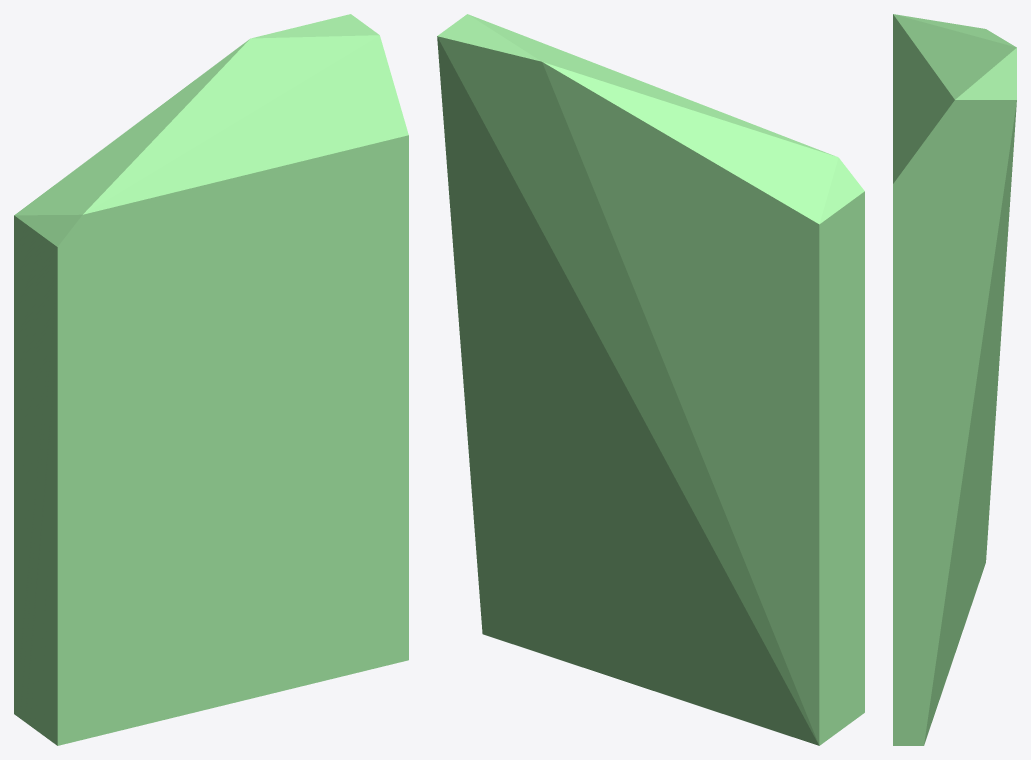
File: rambler_robot_base_coll_66.dae
The picture shows the model from 3 angles, left to right: view 1: azimuth 30°, elevation 25°; view 2: azimuth 150°, elevation 25°; view 3: azimuth 270°, elevation 25°; orthographic projection. The views are drawn at different scales.
Parts seen in each view (by area): view 1: Node_0x7fe100285c80; view 2: Node_0x7fe100285c80; view 3: Node_0x7fe100285c80.
Part boxes in pixels (x1,y1,x2,y2): Node_0x7fe100285c80: (14,14,408,745); Node_0x7fe100285c80: (437,14,864,745); Node_0x7fe100285c80: (893,14,1016,745).
Size of the model in its own units: 0.1916 by 0.3148 by 0.0548.
